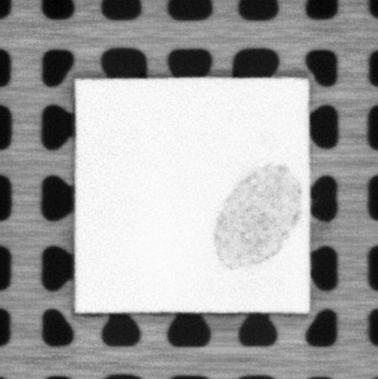DIE_INK: (210, 161, 304, 269)
